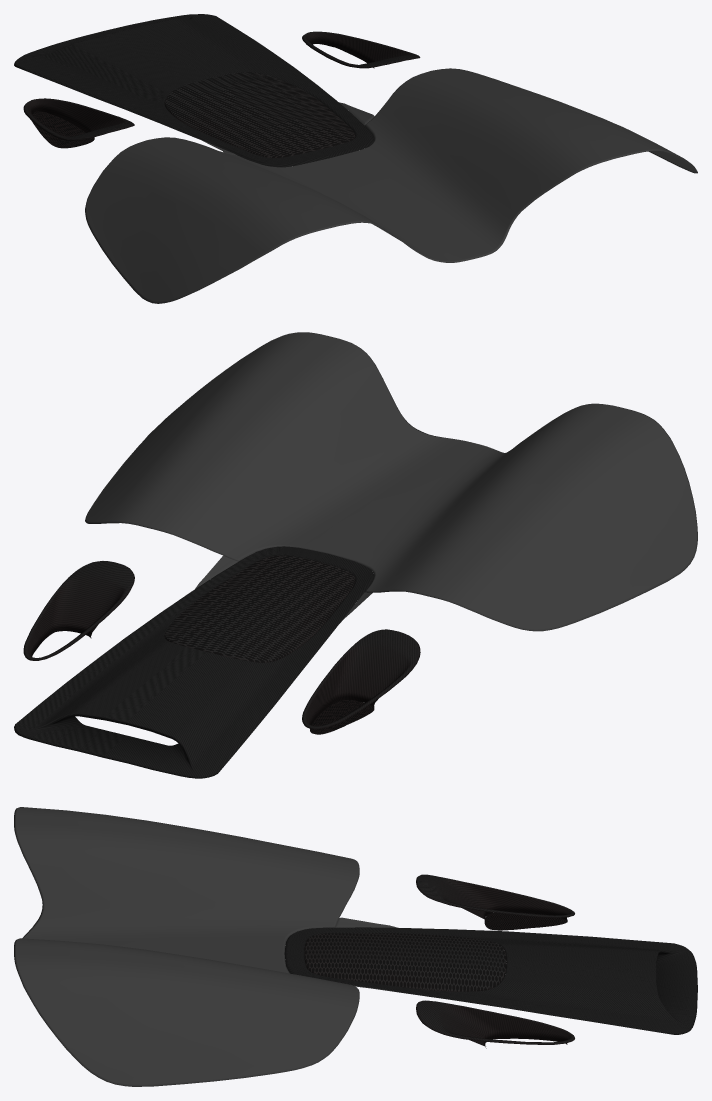
File: cap.glb
The picture shows the model from 3 angles, top to bottom: view 1: azimuth 30°, elevation 25°; view 2: azimuth 150°, elevation 25°; view 3: azimuth 270°, elevation 25°; orthographic projection. The views are drawn at different scales.
Parts seen in each view (by area): view 1: Kit0_Carbon1_Geo_lodA_McLaren_Elva_2021Carbon1M_Material_0.0; view 2: Kit0_Carbon1_Geo_lodA_McLaren_Elva_2021Carbon1M_Material_0.0; view 3: Kit0_Carbon1_Geo_lodA_McLaren_Elva_2021Carbon1M_Material_0.0.
Boxes of the visible parts, x1,y1,x2,y2 form: Kit0_Carbon1_Geo_lodA_McLaren_Elva_2021Carbon1M_Material_0.0: (14,14,697,303); Kit0_Carbon1_Geo_lodA_McLaren_Elva_2021Carbon1M_Material_0.0: (14,332,697,778); Kit0_Carbon1_Geo_lodA_McLaren_Elva_2021Carbon1M_Material_0.0: (14,807,697,1086).
Bounding box in the file's own units: 0.0116 × 0.00239 × 0.0139.
5 materials, 3 textured.
